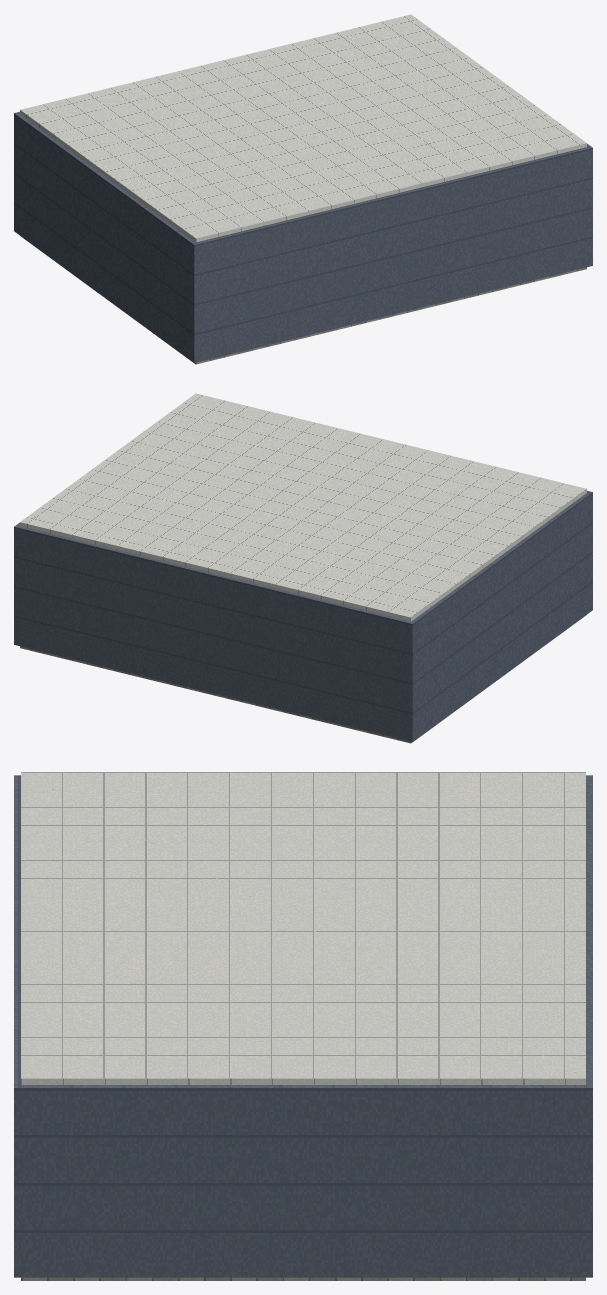
File: PSX_ShelvesPropsNormalPSX_ShelvesProps_Normal.fbx
The picture shows the model from 3 angles, top to bottom: view 1: azimuth 30°, elevation 25°; view 2: azimuth 150°, elevation 25°; view 3: azimuth 270°, elevation 25°; orthographic projection. The views are drawn at different scales.
Parts seen in each view (by area): view 1: Display_Ceiling, Display_Wall_Front, Display_Wall_Left, Display_Floor; view 2: Display_Ceiling, Display_Wall_Back, Display_Wall_Left, Display_Floor; view 3: Display_Ceiling, Display_Wall_Right, Display_Wall_Back, Display_Wall_Front, Display_Floor.
Part boxes in pixels (<box>): Display_Ceiling: <box>20,14,586,242</box>; Display_Wall_Front: <box>192,146,592,362</box>; Display_Wall_Left: <box>16,114,195,360</box>; Display_Floor: <box>21,236,586,364</box>; Display_Ceiling: <box>20,393,586,621</box>; Display_Wall_Back: <box>14,525,414,741</box>; Display_Wall_Left: <box>411,493,590,739</box>; Display_Floor: <box>20,615,585,743</box>; Display_Ceiling: <box>21,772,585,1084</box>; Display_Wall_Right: <box>21,1085,585,1277</box>; Display_Wall_Back: <box>586,775,592,1277</box>; Display_Wall_Front: <box>14,775,20,1277</box>; Display_Floor: <box>21,1277,585,1280</box>.
Bounding box in the file's own units: 1060 × 320 × 830.
64 materials, 64 textured.
